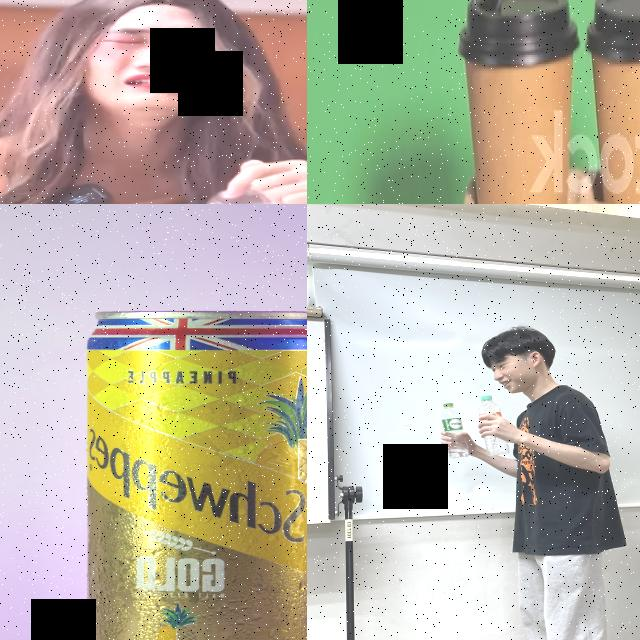bottle: (477, 394, 509, 457), (440, 401, 468, 459)
can: (82, 309, 307, 640)
cup: (456, 0, 580, 204), (585, 0, 640, 204)
